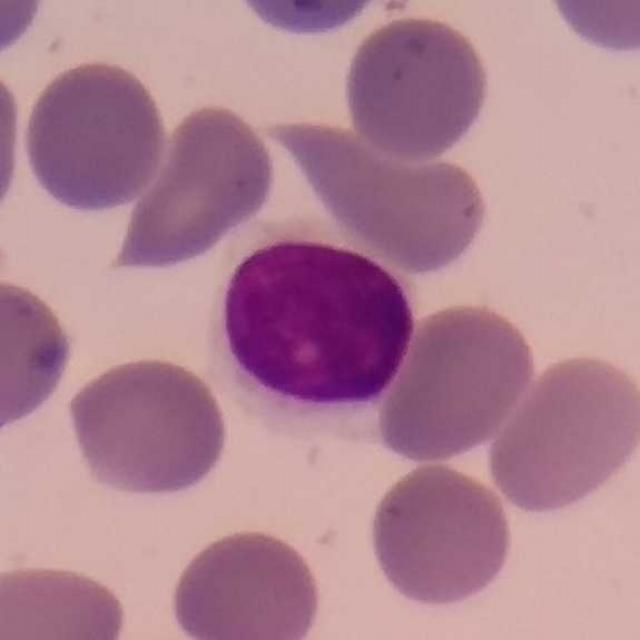Lymphocyte: (208, 220, 422, 440)
